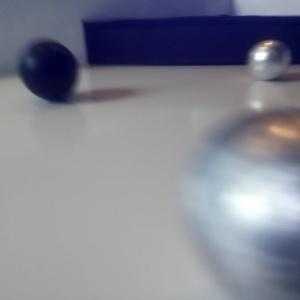zone: (83, 14, 300, 66)
